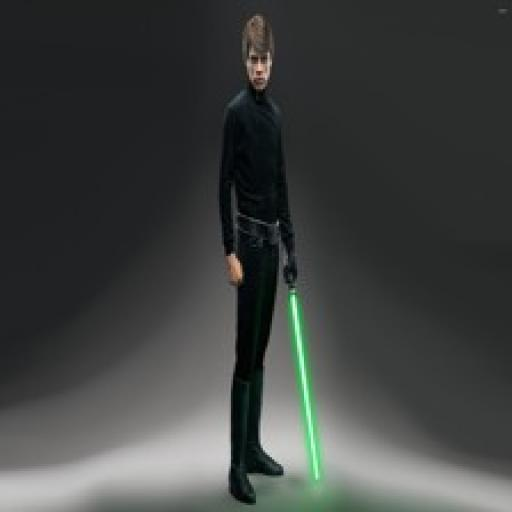human: (204, 10, 298, 504)
lightsaber: (281, 258, 329, 486)
